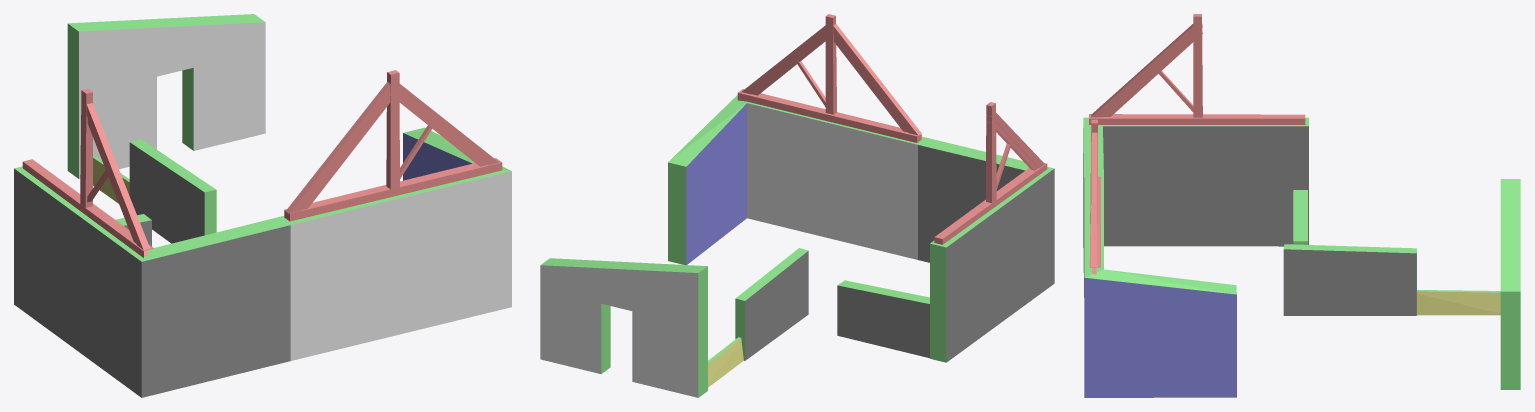
Rendered from Field_Deco_Artifact_S__world_obj29.gltf.
The picture shows the model from 3 angles, left to right: view 1: azimuth 30°, elevation 25°; view 2: azimuth 150°, elevation 25°; view 3: azimuth 270°, elevation 25°; orthographic projection. The views are drawn at different scales.
Visible parts, largest first — view 1: world_obj29; view 2: world_obj29; view 3: world_obj29.
Boxes of the visible parts, left/top/right/bottom form: world_obj29: left=14, top=14, right=511, bottom=397; world_obj29: left=540, top=14, right=1054, bottom=397; world_obj29: left=1083, top=14, right=1520, bottom=397.
Bounding box in the file's own units: 3.74 × 2.48 × 4.32.
